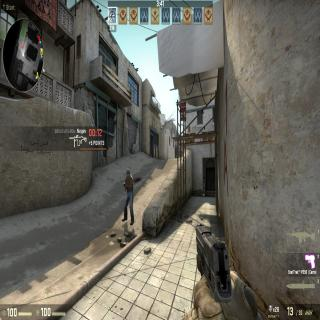T-Body: (123, 168, 134, 225)
T-Head: (126, 168, 130, 178)
